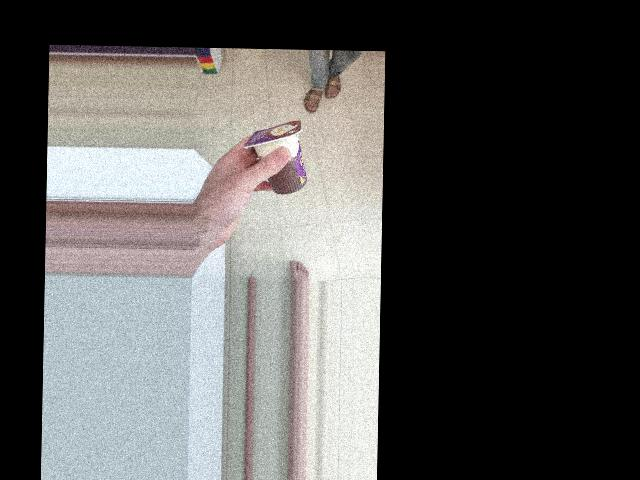milky: (251, 122, 307, 201)
